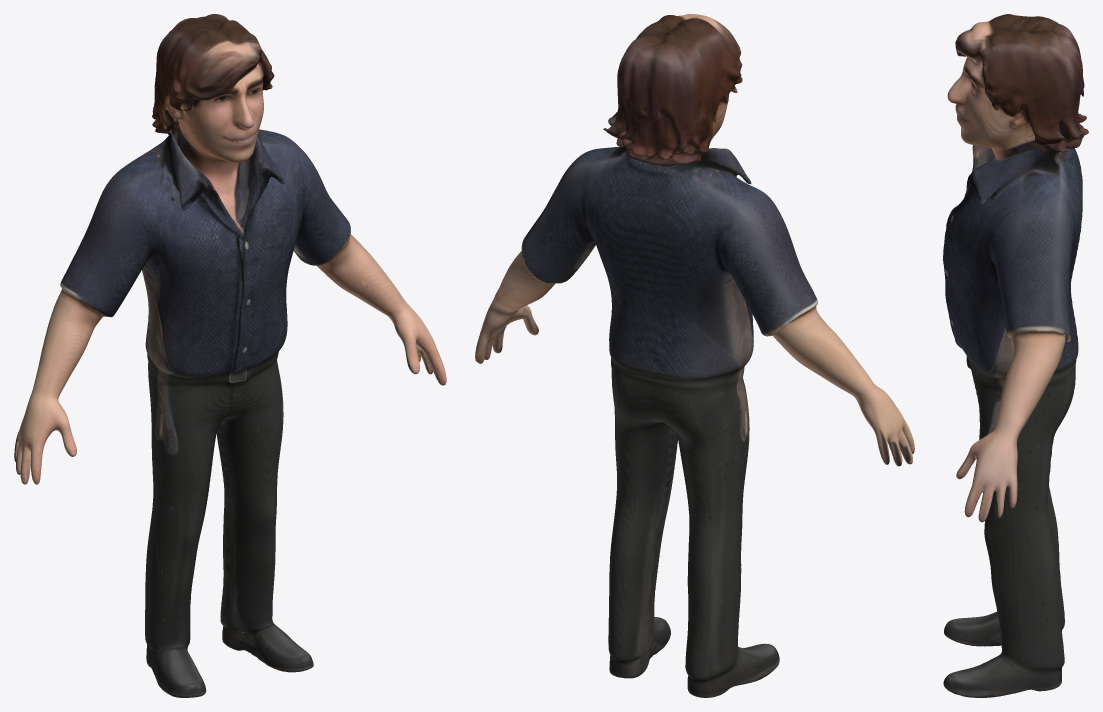
File: Meshy_AI_El_Fary_0227105744_texture.fbx
3 views of the same model, side by side, from view 1: azimuth 30°, elevation 25°; view 2: azimuth 150°, elevation 25°; view 3: azimuth 270°, elevation 25° (orthographic).
Parts seen in each view (by area): view 1: Mesh_0; view 2: Mesh_0; view 3: Mesh_0.
Boxes of the visible parts, x1=… form: Mesh_0: x1=14, y1=14, x2=446, y2=697; Mesh_0: x1=475, y1=14, x2=914, y2=697; Mesh_0: x1=943, y1=14, x2=1088, y2=697.
Size of the model in its own units: 138 by 200 by 41.03.
1 material, 1 textured.
